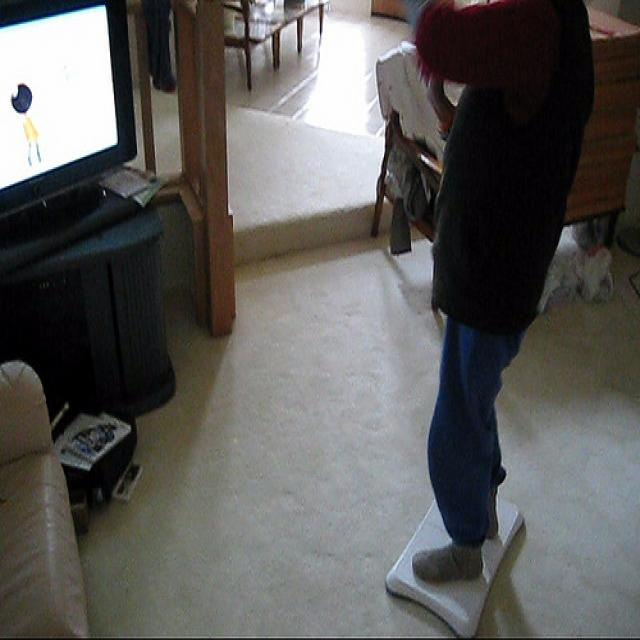chair: (373, 114, 443, 249)
dining table: (224, 0, 328, 86)
